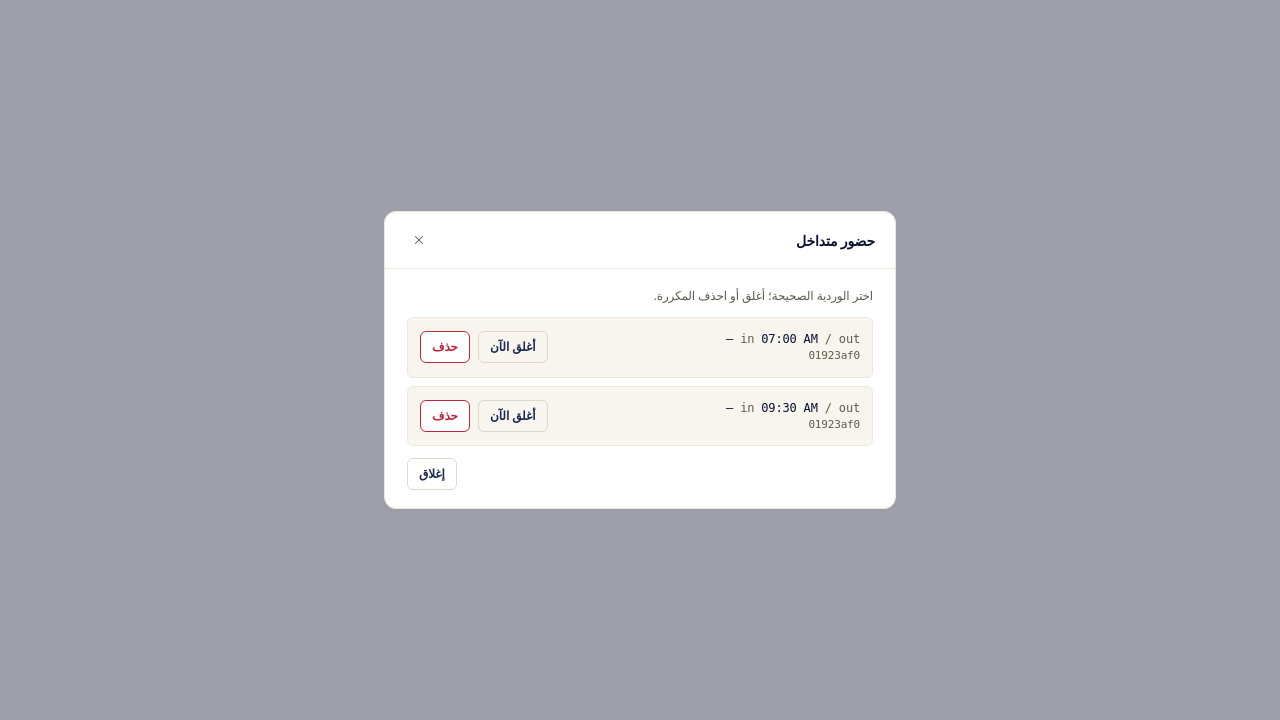
Test: Phase-09 §8 component-render: ResolveOverlappingShifts (dir=rtl) › all Close-now buttons disable while ANY clock_out is pending
expect the number of list items is 2: met, box left=407, top=317, right=873, bottom=378; left=407, top=386, right=873, bottom=446
Click the button "أغلق الآن" in the row of "07:00 AM" at {"x": 513, "y": 347}, box left=478, top=331, right=548, bottom=363
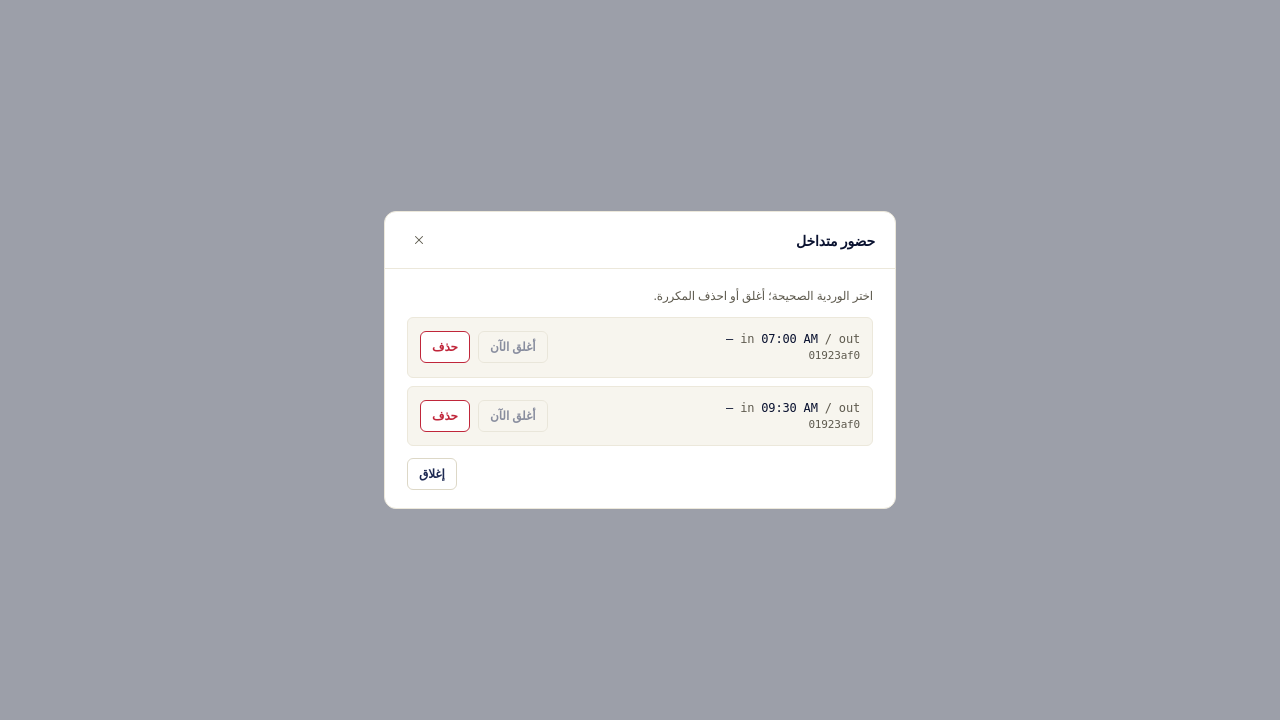
expect the button "أغلق الآن" in the row of "07:00 AM" is disabled: met, box left=478, top=331, right=548, bottom=363
expect the button "أغلق الآن" in the row of "09:30 AM" is disabled: met, box left=478, top=400, right=548, bottom=432
